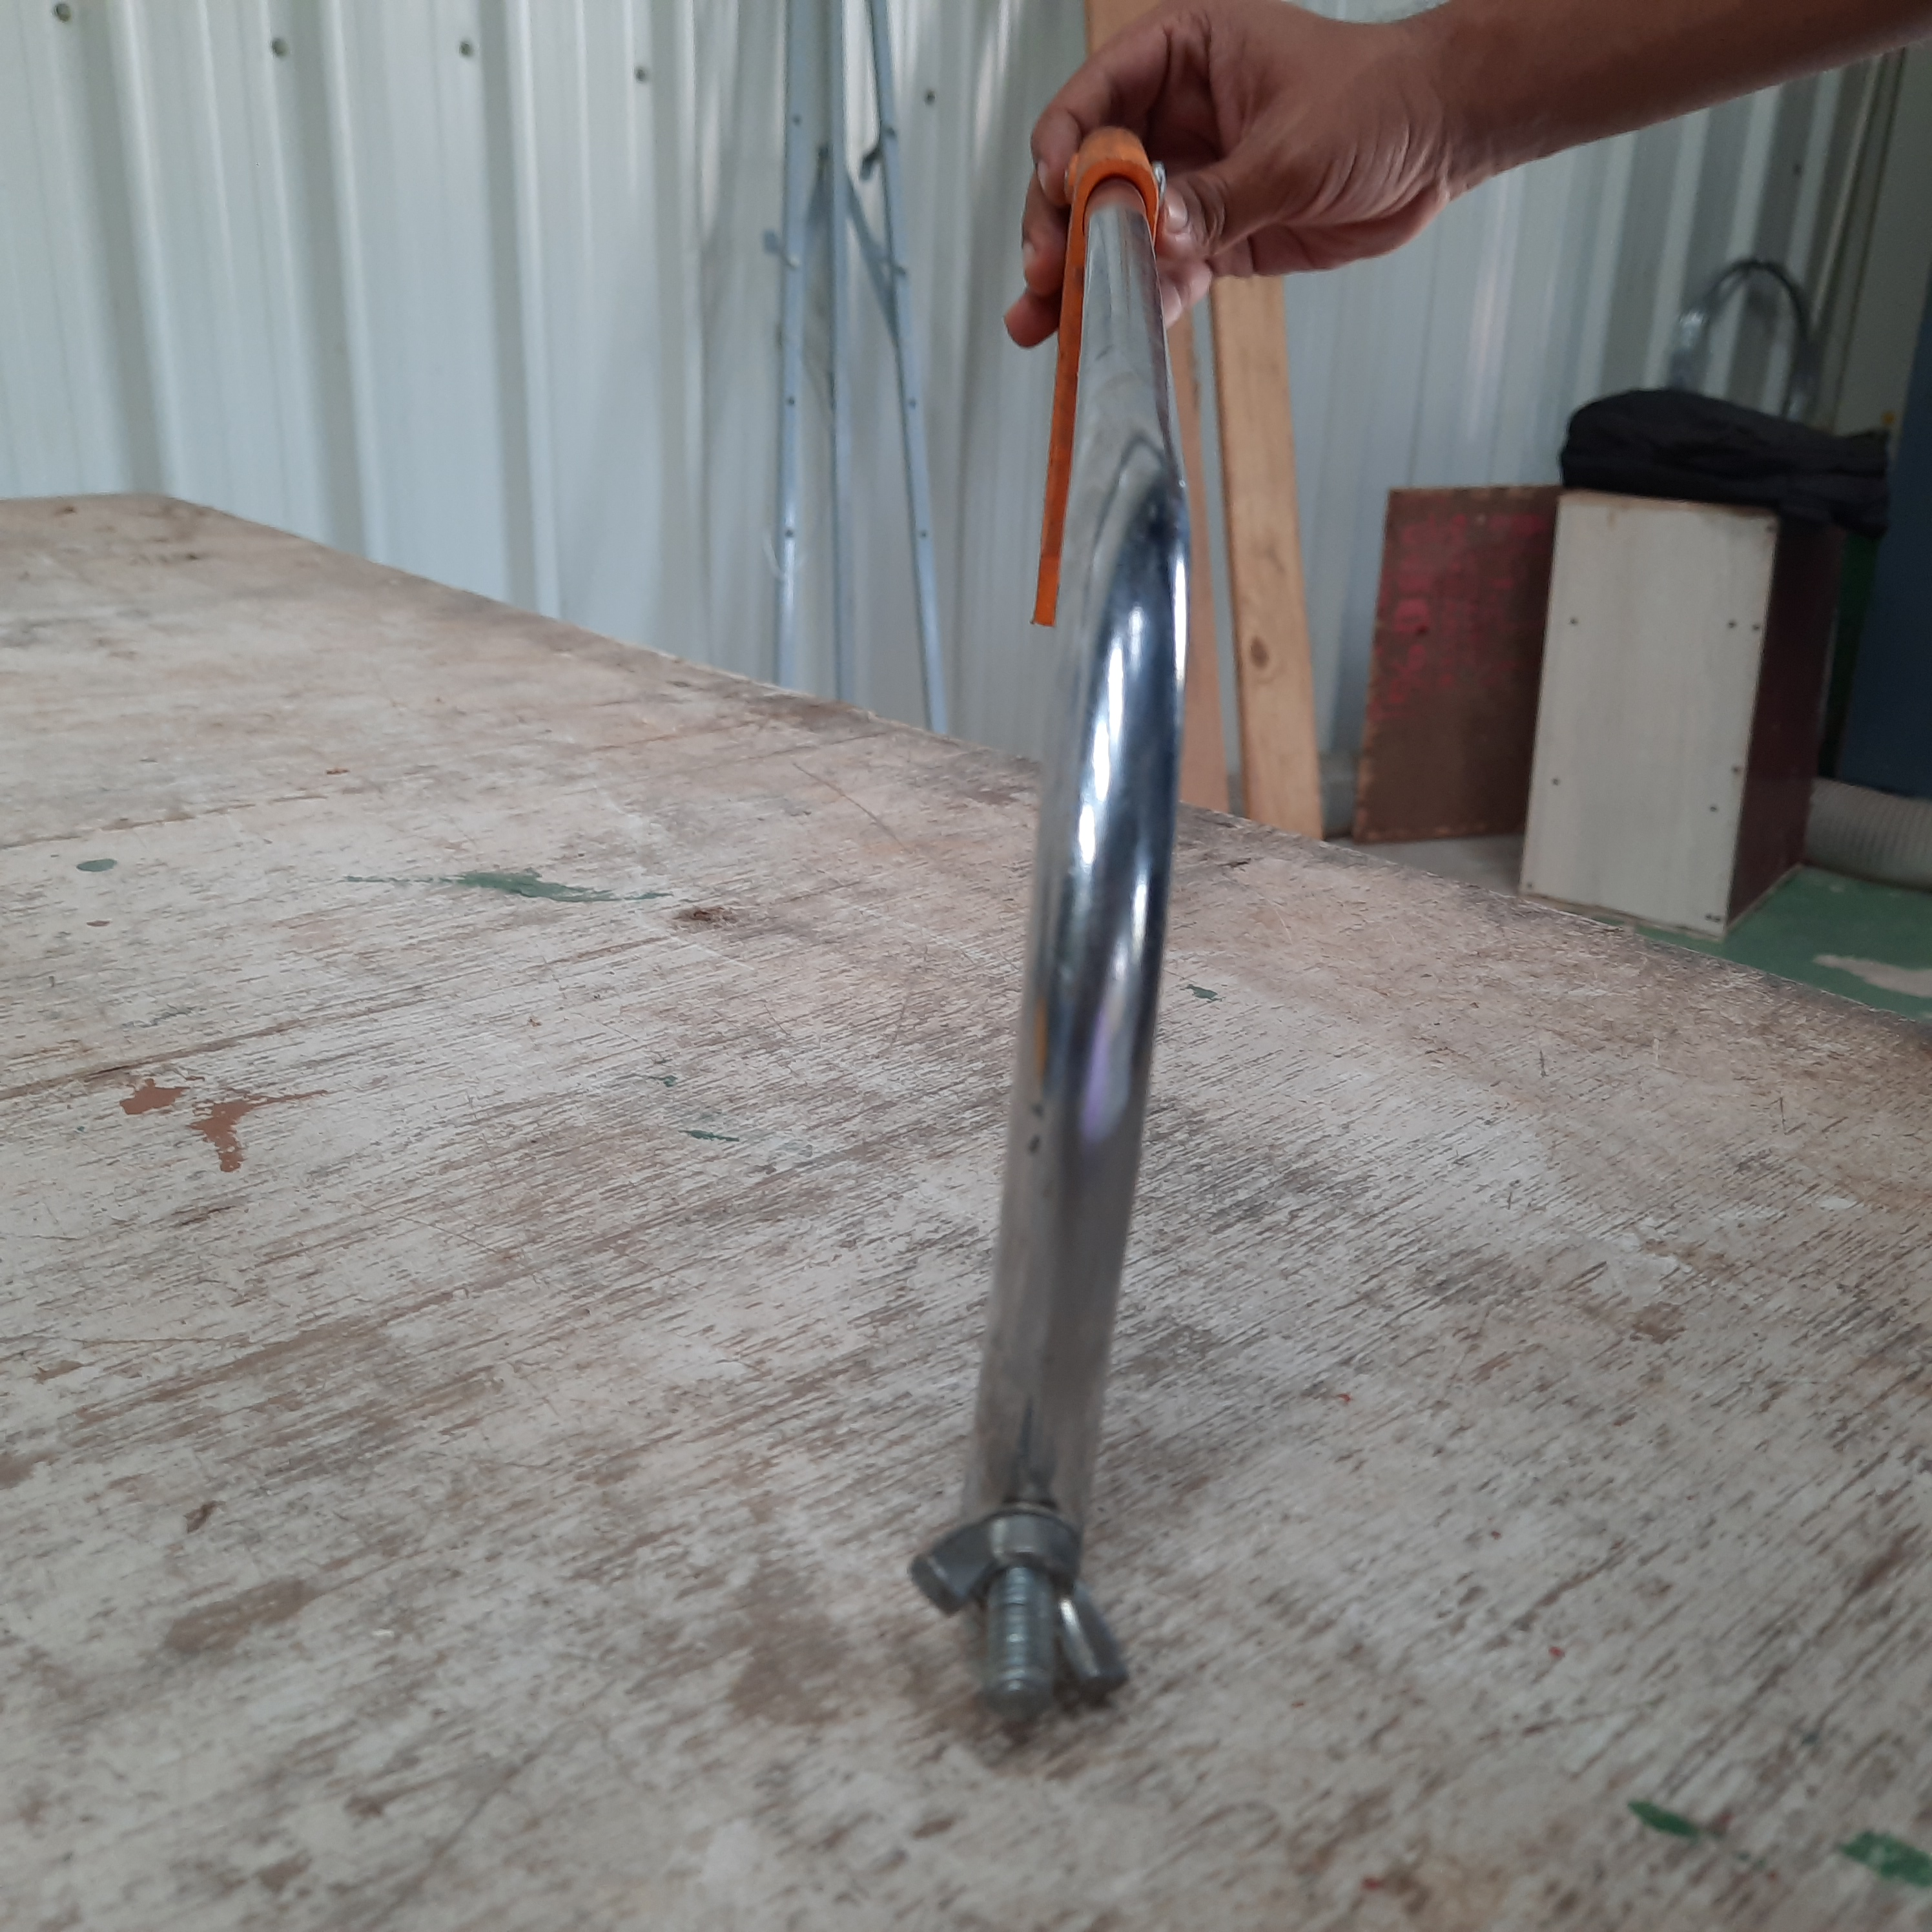Hexaframe: (863, 110, 1304, 1757)
